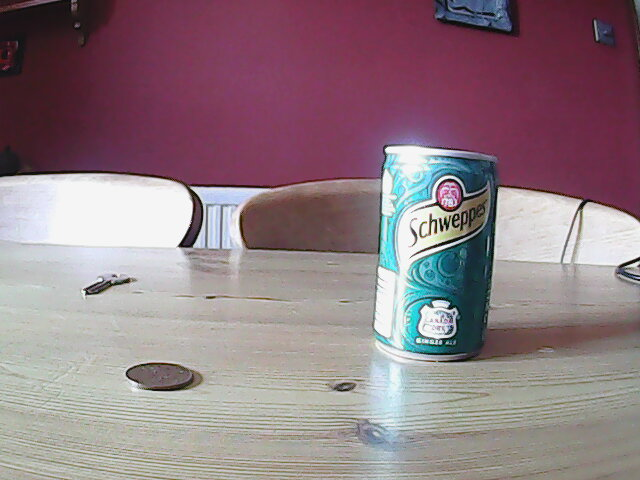Can: (369, 139, 501, 363)
Coin: (118, 357, 198, 390)
Key: (80, 271, 131, 300)
